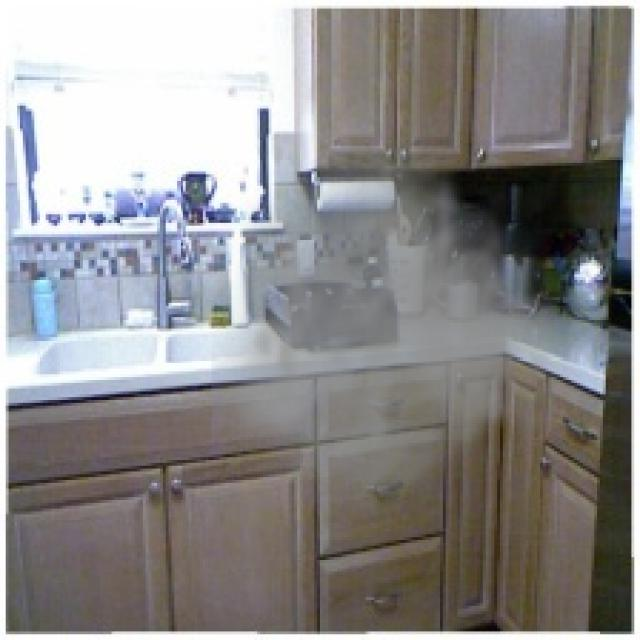smoke: (212, 128, 597, 528)
